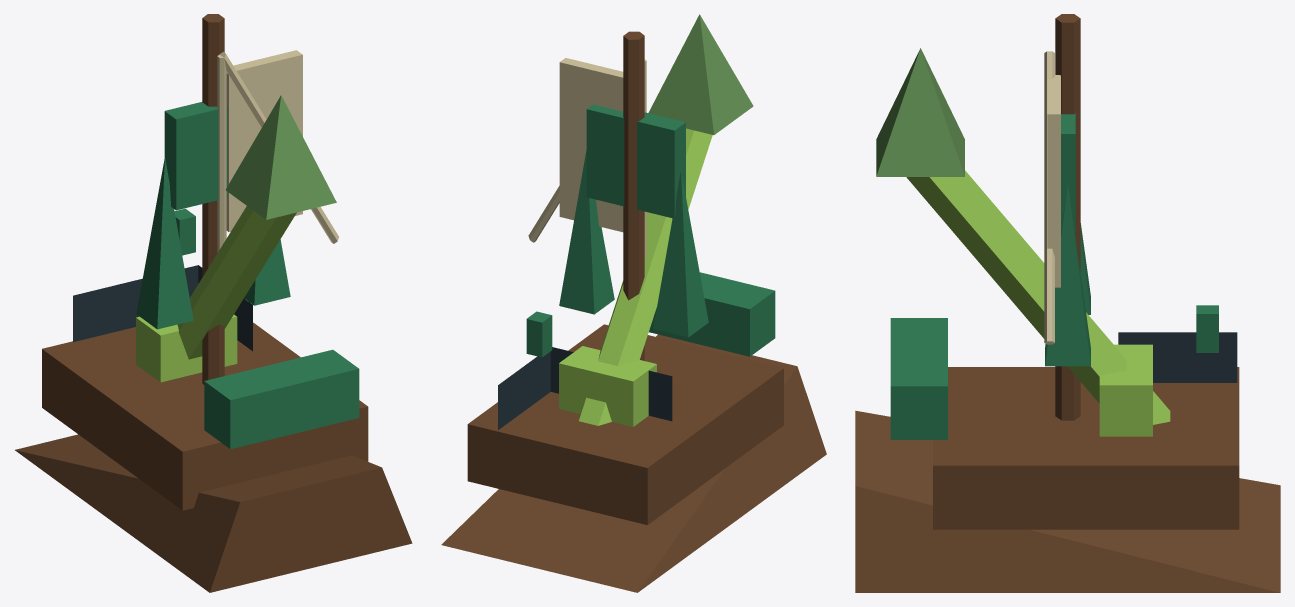
The model's file is naval-siege-ship.obj.
3 views of the same model, side by side, from view 1: azimuth 30°, elevation 25°; view 2: azimuth 150°, elevation 25°; view 3: azimuth 270°, elevation 25° (orthographic). The views are drawn at different scales.
Parts seen in each view (by area): view 1: ship; view 2: ship; view 3: ship.
Boxes of the visible parts, <box> form: ship: <box>15,14,412,592</box>; ship: <box>441,14,826,592</box>; ship: <box>855,14,1280,592</box>.
Bounding box in the file's own units: 1.08 × 2.26 × 1.67.
